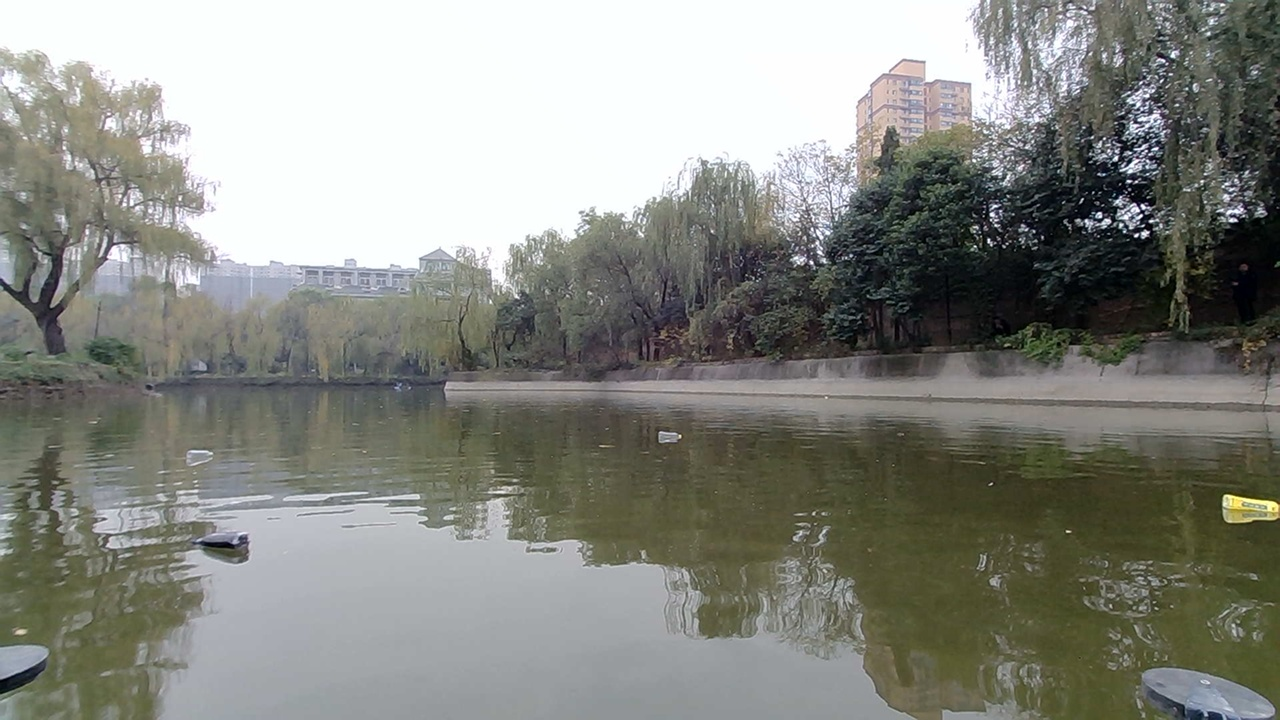bottle: (184, 515, 280, 566), (140, 431, 242, 476), (1208, 487, 1279, 530), (645, 408, 697, 445)
